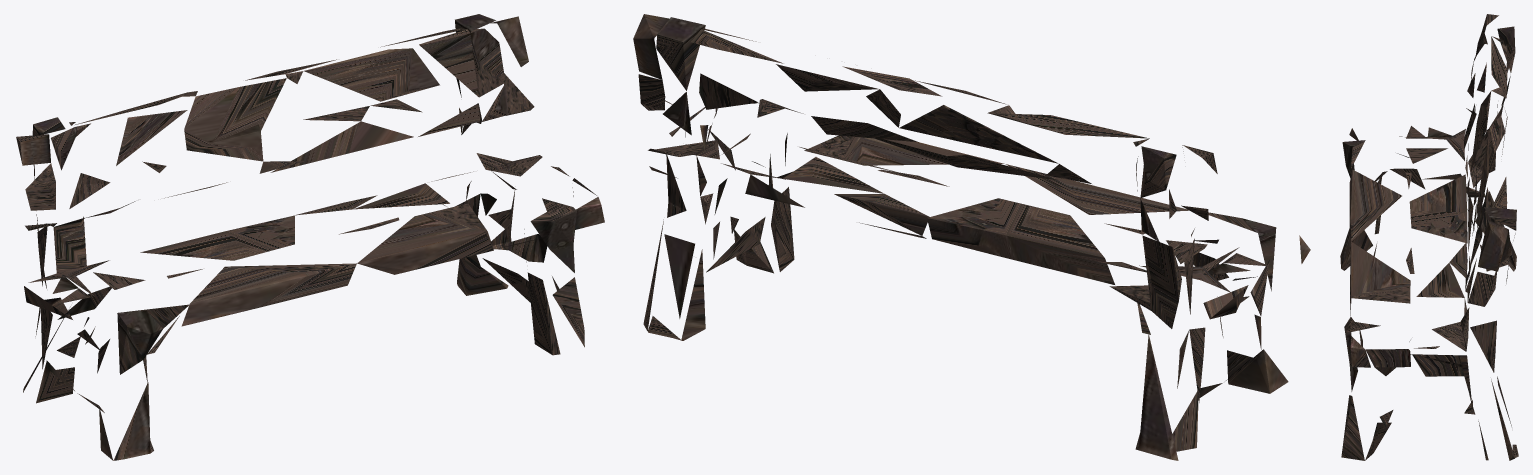
The model's file is prp_bench_a_LOD2.glb.
The picture shows the model from 3 angles, left to right: view 1: azimuth 30°, elevation 25°; view 2: azimuth 150°, elevation 25°; view 3: azimuth 270°, elevation 25°; orthographic projection. The views are drawn at different scales.
Visible parts, largest first — view 1: geometry_0; view 2: geometry_0; view 3: geometry_0.
Part boxes in pixels (<box>): geometry_0: <box>16,14,604,460</box>; geometry_0: <box>633,14,1310,460</box>; geometry_0: <box>1340,14,1518,460</box>.
Size of the model in its own units: 1.8 by 0.8938 by 0.6065.
1 material, 1 textured.
